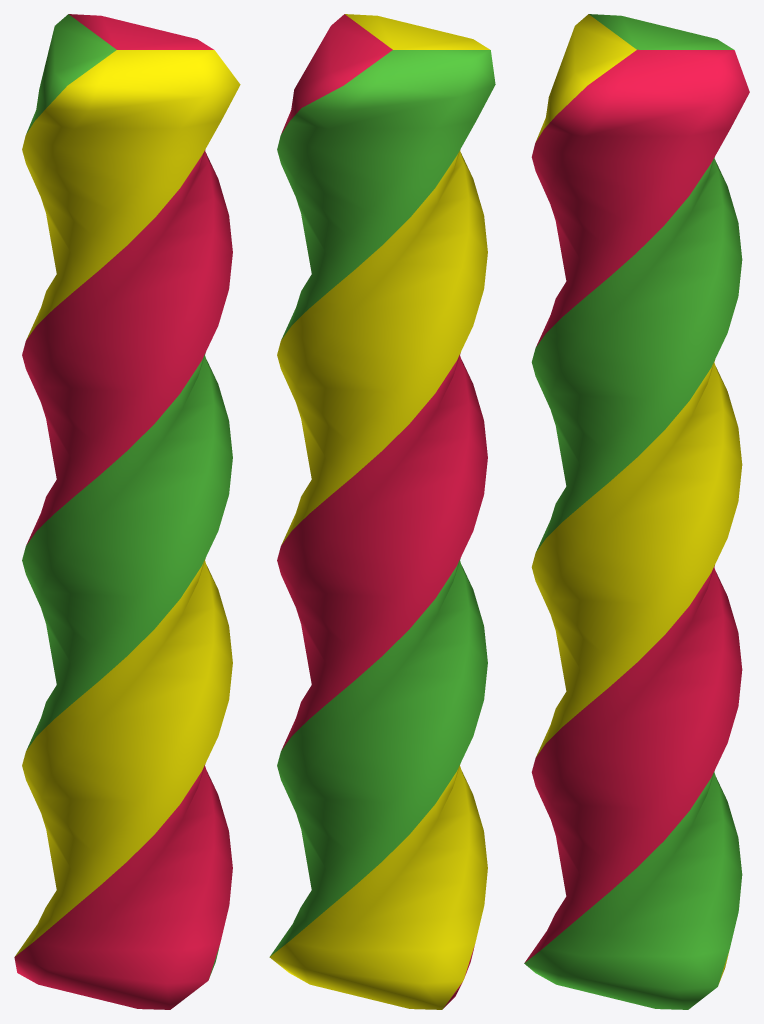
File: lollipop_017.glb
3 views of the same model, side by side, from view 1: azimuth 30°, elevation 25°; view 2: azimuth 150°, elevation 25°; view 3: azimuth 270°, elevation 25° (orthographic).
Parts seen in each view (by area): view 1: lollipop_017; view 2: lollipop_017; view 3: lollipop_017.
Part boxes in pixels (x1,y1,x2,y2): lollipop_017: (14,14,240,1009); lollipop_017: (269,14,495,1009); lollipop_017: (524,14,749,1009).
Bounding box in the file's own units: 1.66 × 7.79 × 1.73.
Materials: 1 (1 with a texture image).
